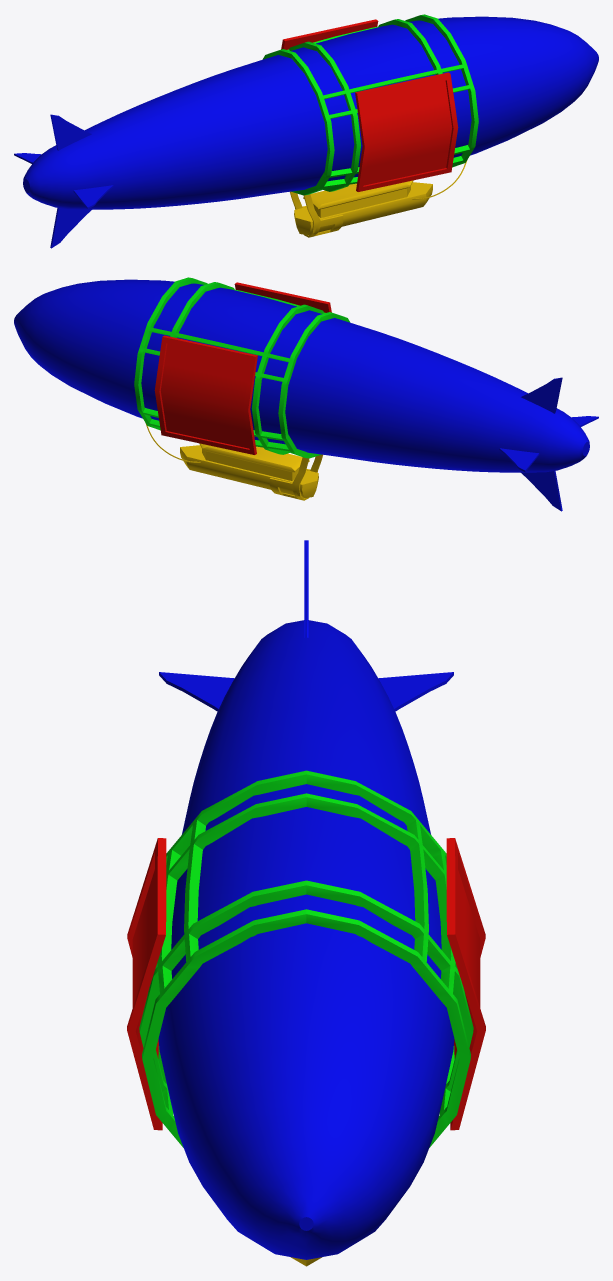
The model's file is Blimp_Mesh.fbx.
3 views of the same model, one above another, from view 1: azimuth 30°, elevation 25°; view 2: azimuth 150°, elevation 25°; view 3: azimuth 270°, elevation 25° (orthographic). The views are drawn at different scales.
Visible parts, largest first — view 1: Blimp; view 2: Blimp; view 3: Blimp.
Part boxes in pixels (box(x1,y1,x2,y2)): Blimp: box(14, 14, 598, 248); Blimp: box(14, 277, 598, 511); Blimp: box(127, 540, 485, 1266).
Bounding box in the file's own units: 3327 × 12218 × 3821.
